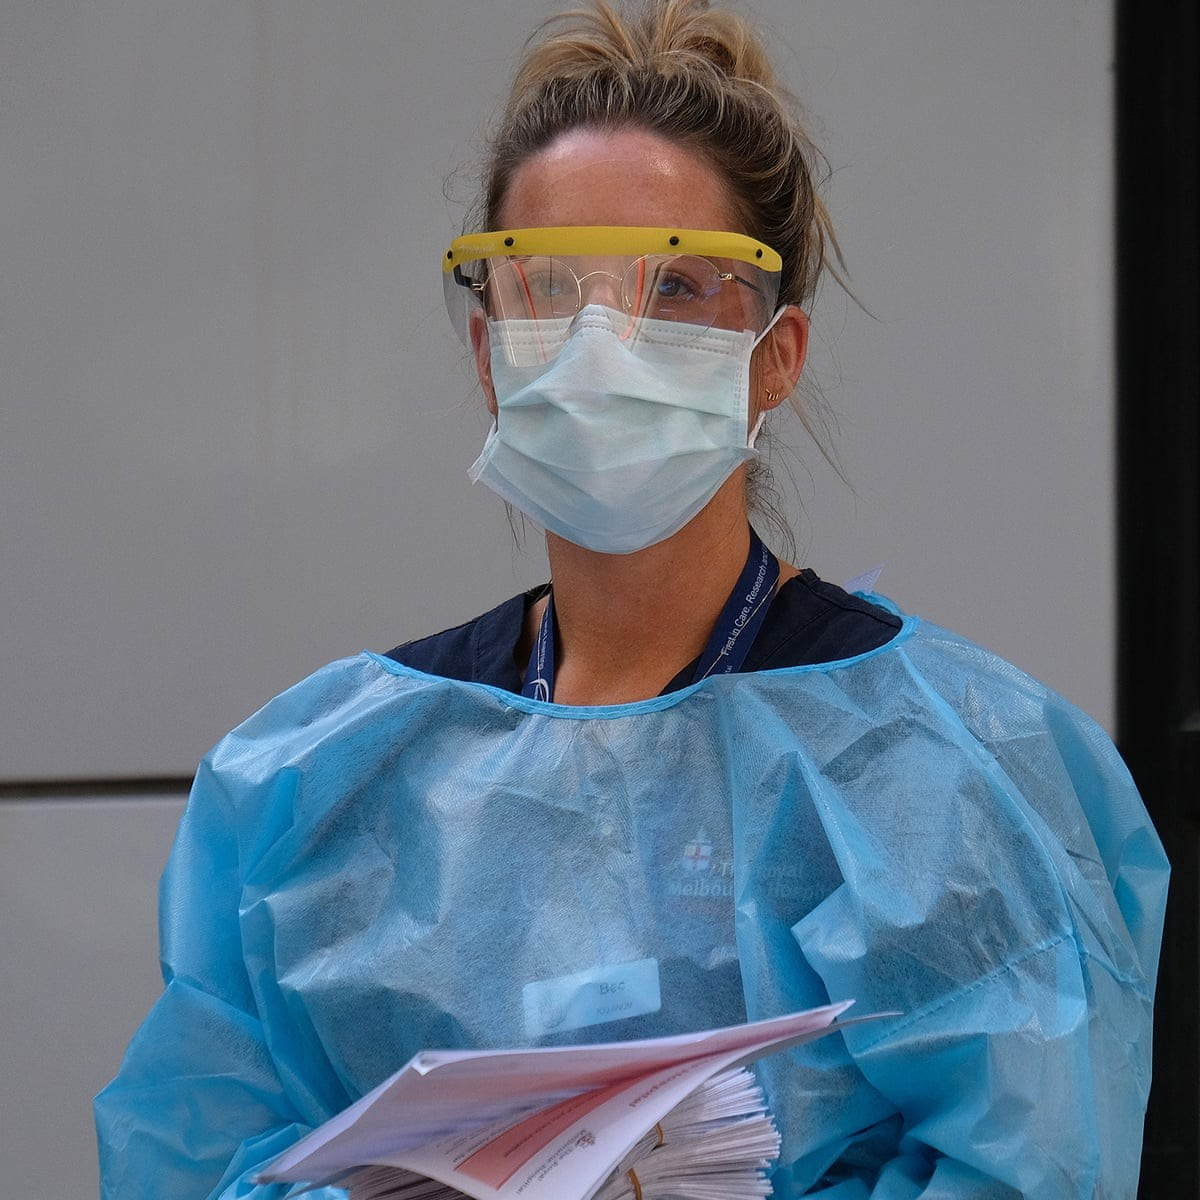Coverall: (75, 644, 1177, 1200)
Face_Shield: (439, 219, 790, 360)
with_mask: (486, 275, 753, 555)
